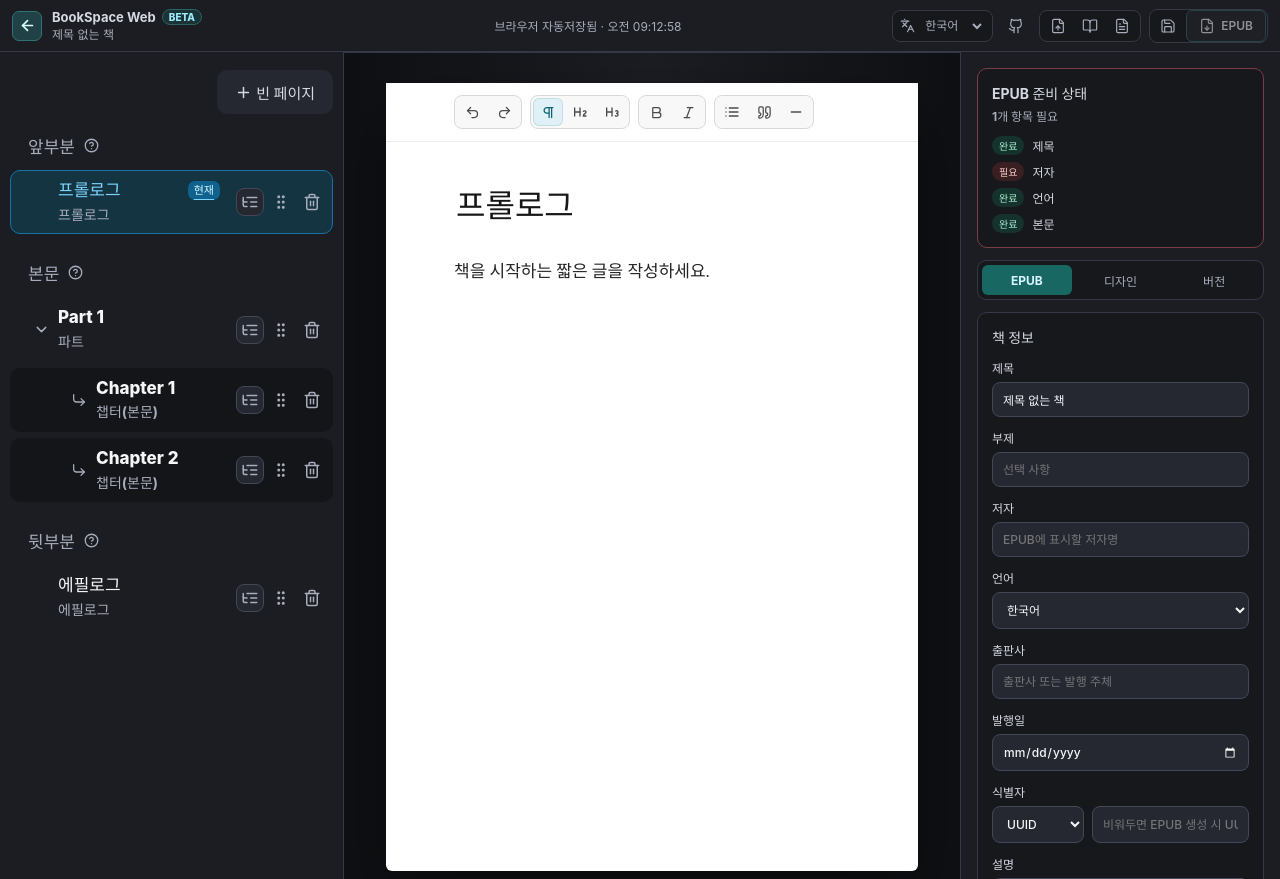
Test: BookSpace Web editor › shows feedback when the project export button is used
The image size is (1280, 879).
Step 1. Click the button named "프로젝트 저장" → click(1168, 26), box 1153,12 -> 1183,40
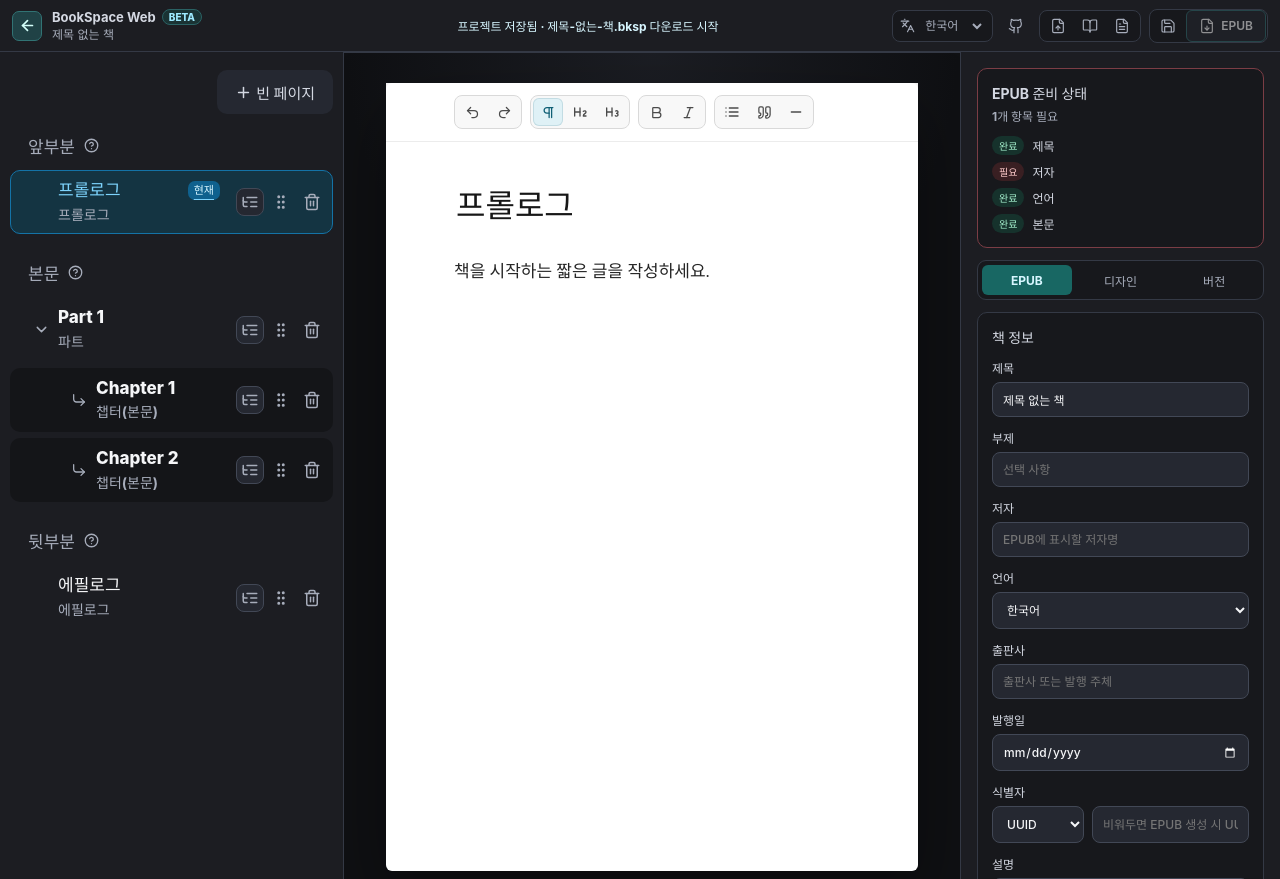
expect the message shows "프로젝트 저장됨": met, box 458,19 -> 718,34
expect the message shows ".bksp": met, box 458,19 -> 718,34
